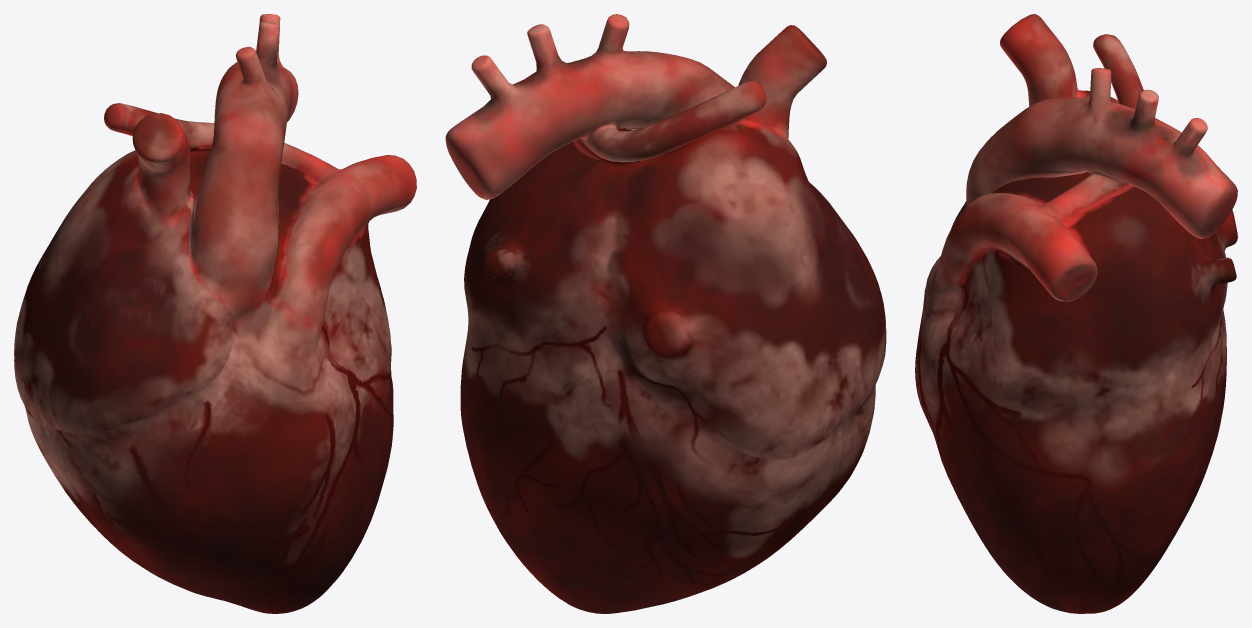
File: PRP_HeartModel.glb
The picture shows the model from 3 angles, left to right: view 1: azimuth 30°, elevation 25°; view 2: azimuth 150°, elevation 25°; view 3: azimuth 270°, elevation 25°; orthographic projection. The views are drawn at different scales.
Visible parts, largest first — view 1: hart:ZBrush_defualt_group_Heart Tex_0; view 2: hart:ZBrush_defualt_group_Heart Tex_0; view 3: hart:ZBrush_defualt_group_Heart Tex_0.
Boxes of the visible parts, x1,y1,x2,y2 form: hart:ZBrush_defualt_group_Heart Tex_0: (14,14,416,613); hart:ZBrush_defualt_group_Heart Tex_0: (445,14,886,613); hart:ZBrush_defualt_group_Heart Tex_0: (915,14,1237,613).
Bounding box in the file's own units: 1.08 × 1.6 × 0.8801.
Materials: 1 (1 with a texture image).
